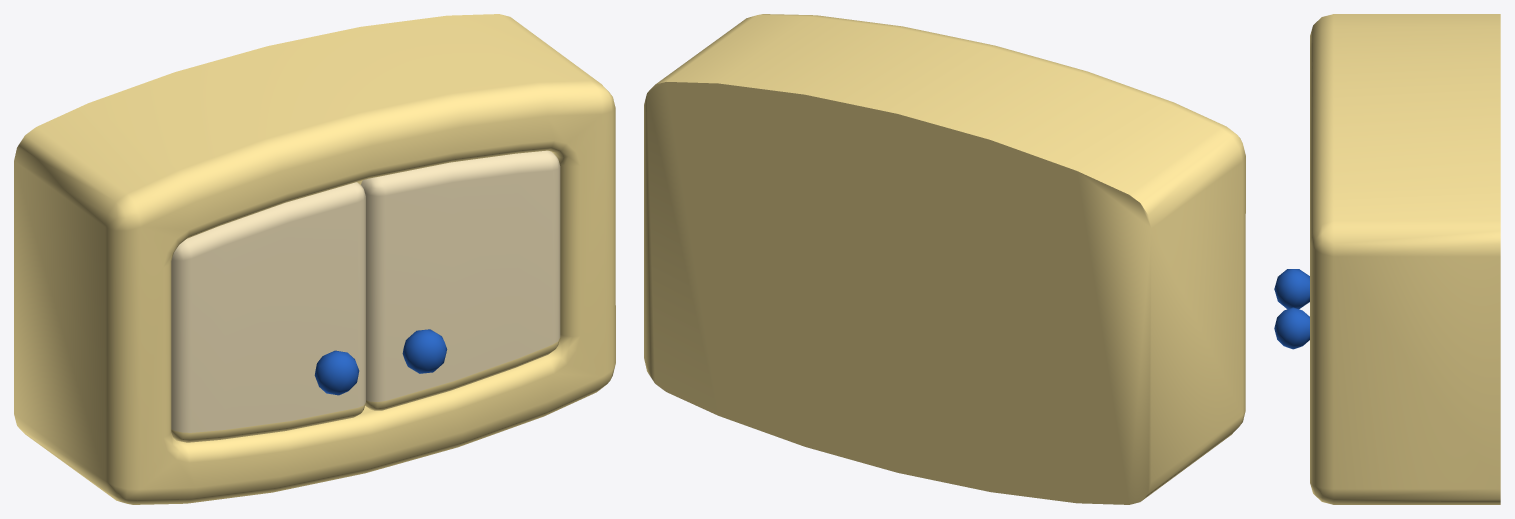
File: armario_parede_2portas_campestre_azul_pacote.glb
3 views of the same model, side by side, from view 1: azimuth 30°, elevation 25°; view 2: azimuth 150°, elevation 25°; view 3: azimuth 270°, elevation 25° (orthographic). The views are drawn at different scales.
Parts seen in each view (by area): view 1: armario_parede_2portas_campestre_azul_pacote, porta_2, porta_1; view 2: armario_parede_2portas_campestre_azul_pacote; view 3: armario_parede_2portas_campestre_azul_pacote, porta_2, porta_1.
Boxes of the visible parts, bbox=[...] form: armario_parede_2portas_campestre_azul_pacote: bbox=[14, 14, 615, 504]; porta_2: bbox=[361, 150, 560, 410]; porta_1: bbox=[171, 182, 365, 442]; armario_parede_2portas_campestre_azul_pacote: bbox=[644, 14, 1245, 504]; armario_parede_2portas_campestre_azul_pacote: bbox=[1310, 14, 1500, 504]; porta_2: bbox=[1274, 307, 1309, 349]; porta_1: bbox=[1274, 269, 1309, 309].
Bounding box in the file's own units: 0.9 × 0.6085 × 0.3799.
1 material, 1 textured.
